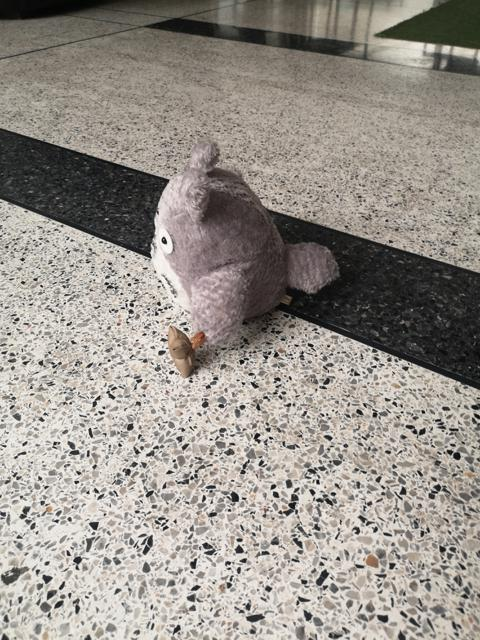totoro: (143, 137, 344, 385)
